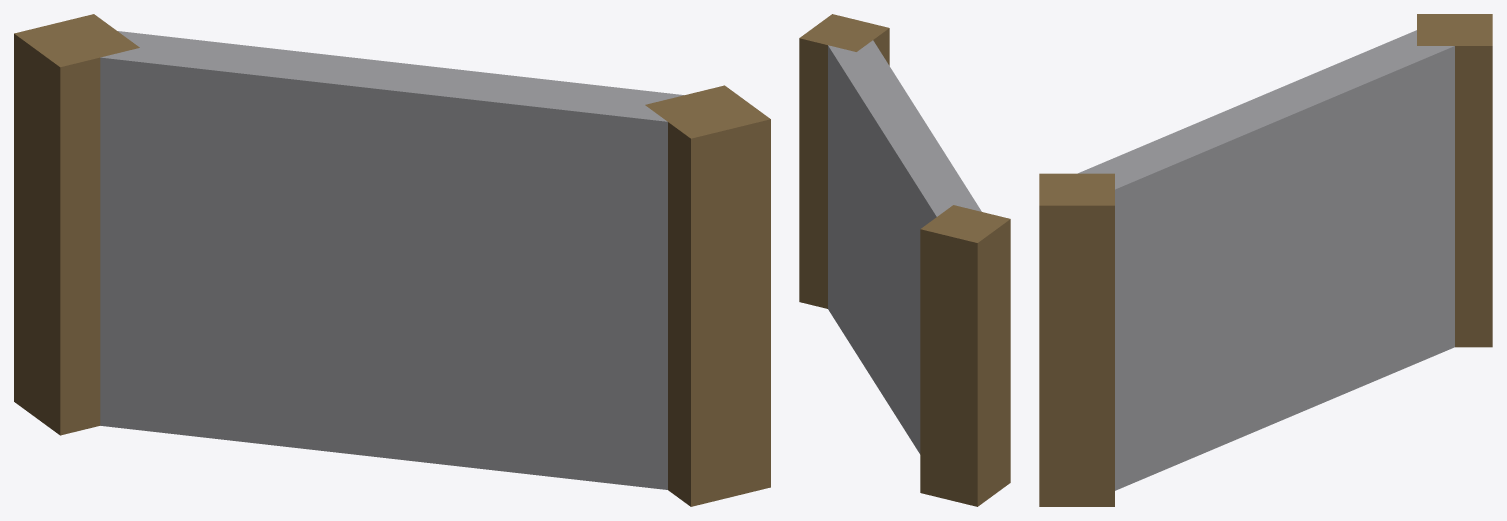
File: Wood_Corner_01.obj
3 renders of one model, left to right at view 1: azimuth 30°, elevation 25°; view 2: azimuth 150°, elevation 25°; view 3: azimuth 270°, elevation 25°, orthographic. The views are drawn at different scales.
Visible parts, largest first — view 1: Mesh1_Wood_Corner_Model; view 2: Mesh1_Wood_Corner_Model; view 3: Mesh1_Wood_Corner_Model.
Boxes of the visible parts, x1=… form: Mesh1_Wood_Corner_Model: x1=14, y1=14, x2=770, y2=506; Mesh1_Wood_Corner_Model: x1=799, y1=14, x2=1010, y2=506; Mesh1_Wood_Corner_Model: x1=1039, y1=14, x2=1492, y2=506.
Bounding box in the file's own units: 3 × 2.2 × 3.
